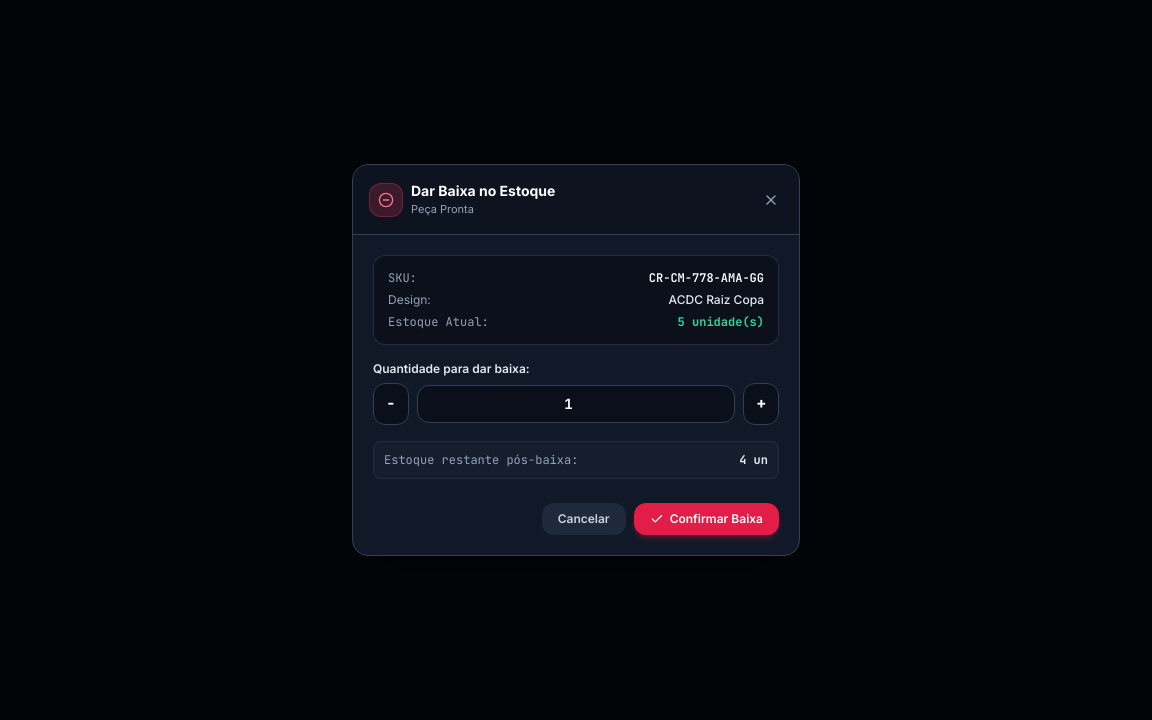
Test: ModalUsarEstoque Component Tests › allows changing quantity and prevents exceeding available stock
What coordinates should you click on to do the following:
click the button named "Aumentar quantidade"
I would click on:
 (761, 404)
Its box is [743,383,779,425].
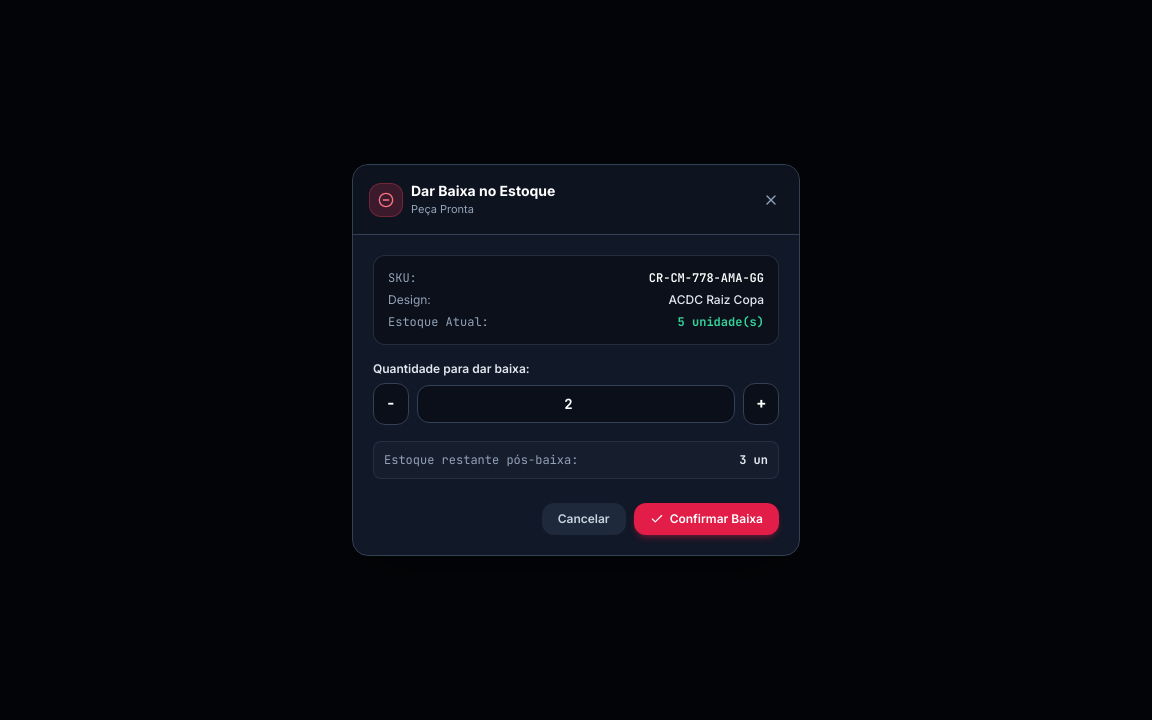
expect the number field labelled "Quantidade para dar baixa" holds "2": met, box [417,385,735,423]
What coordinates should you click on to do the following:
click the button named "Diminuir quantidade"
I would click on:
 (391, 404)
Its box is [373,383,409,425].
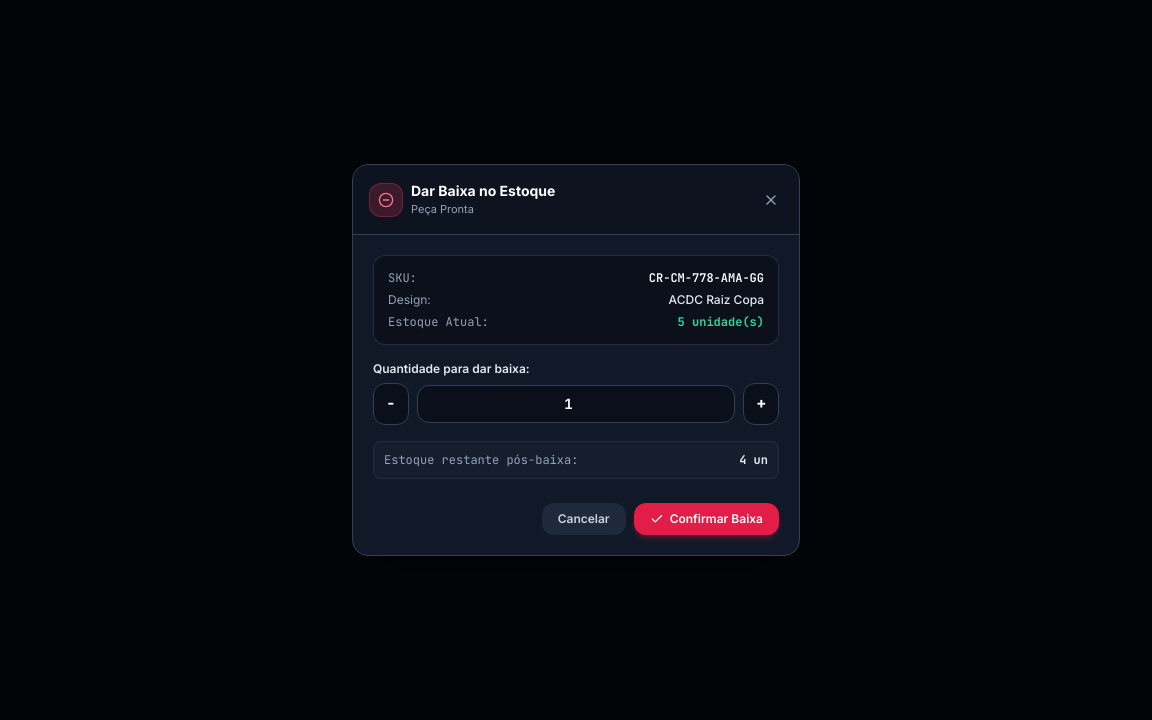
expect the number field labelled "Quantidade para dar baixa" holds "1": met, box [417,385,735,423]
